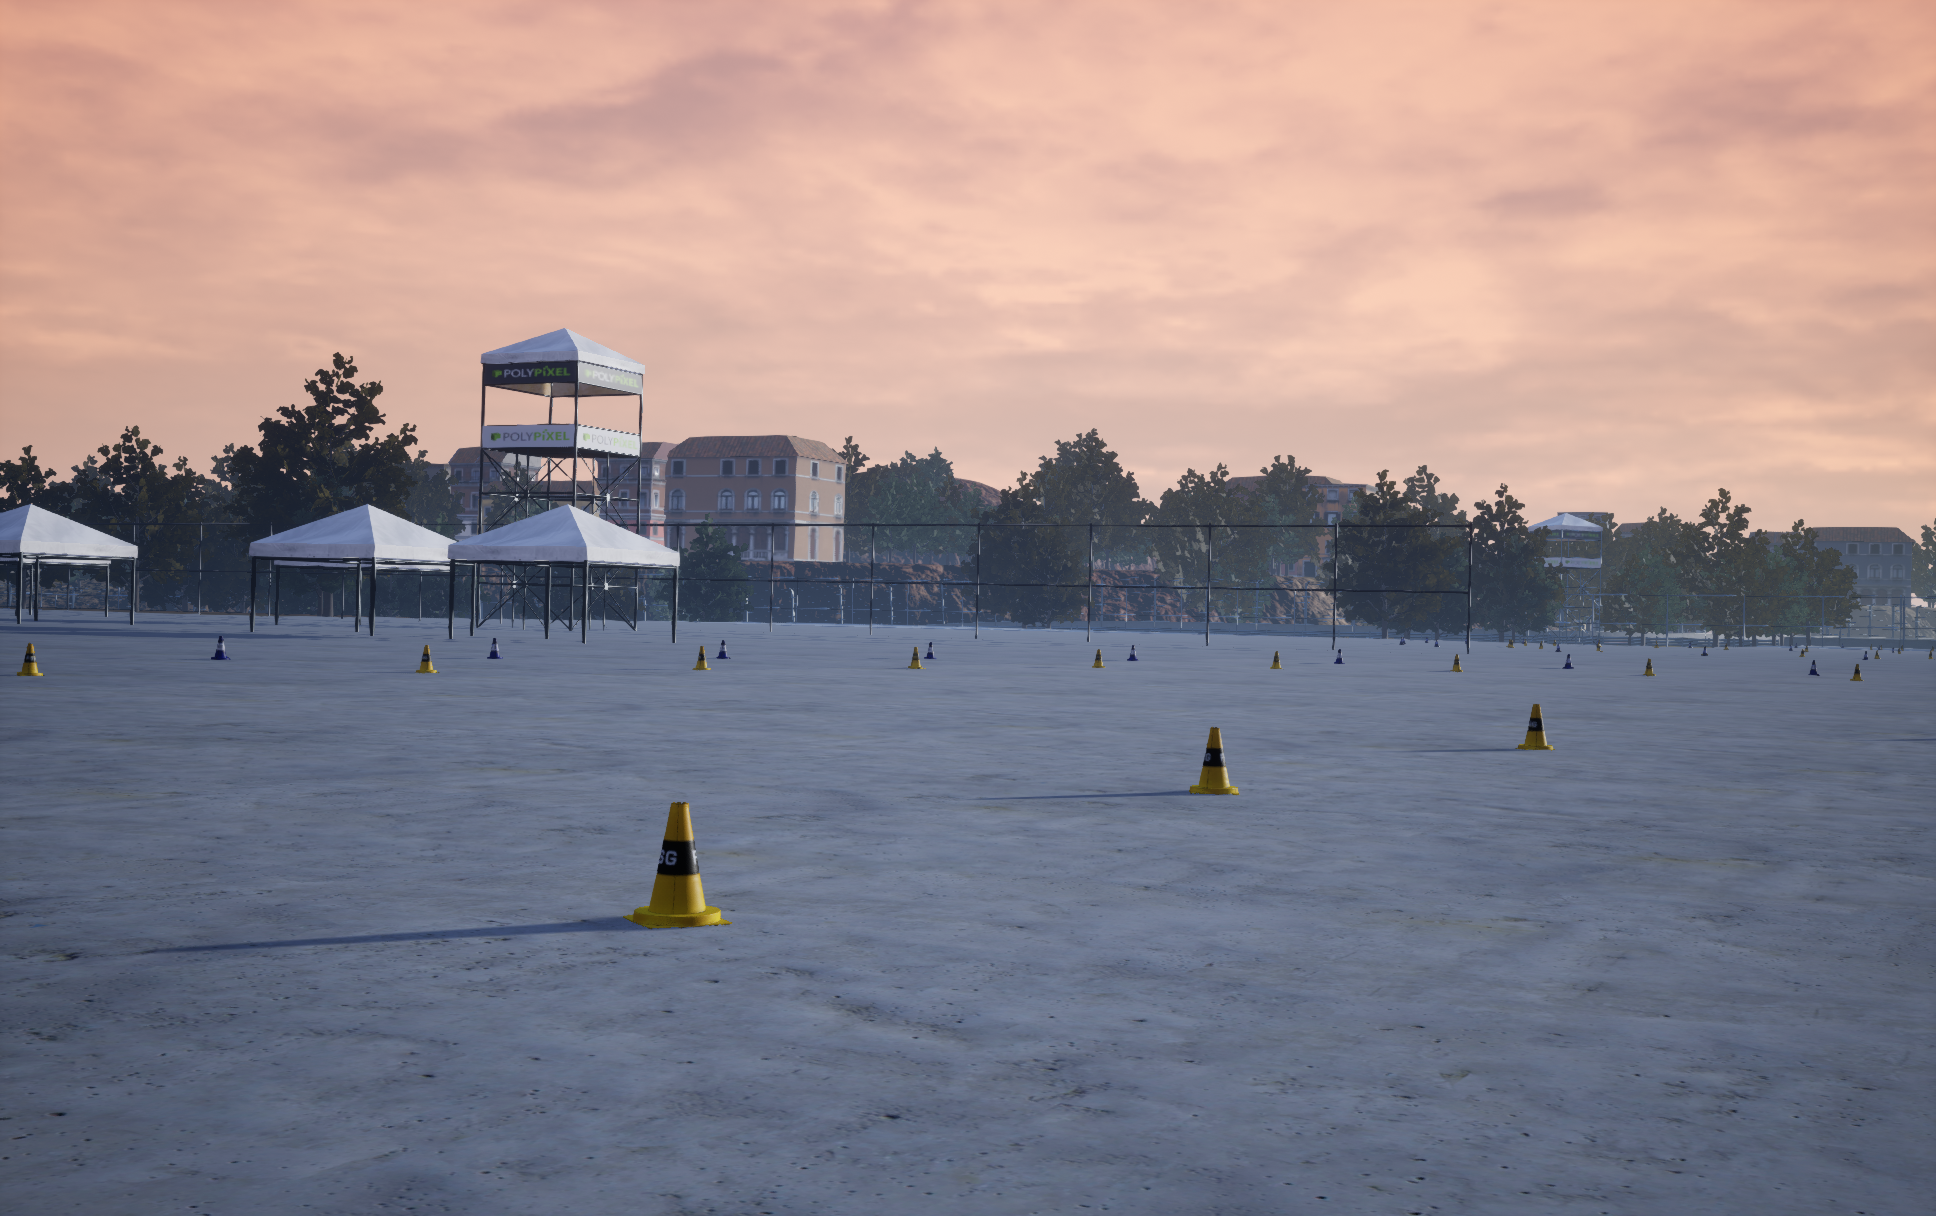blue: (623, 801, 733, 927), (1189, 727, 1238, 794), (1514, 705, 1554, 749), (17, 643, 43, 675), (415, 644, 438, 672), (692, 646, 710, 670), (908, 647, 925, 668), (1093, 649, 1105, 667)
yellow: (212, 636, 230, 658), (488, 637, 502, 658), (716, 640, 730, 658)
